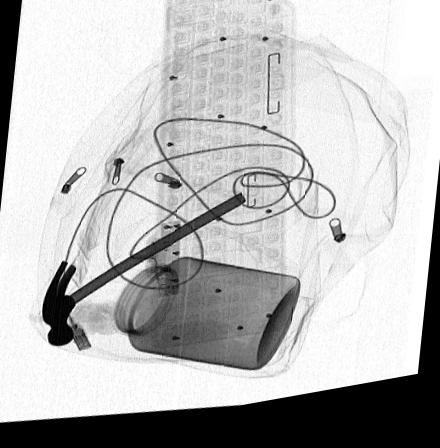Hammer: (41, 199, 247, 348)
